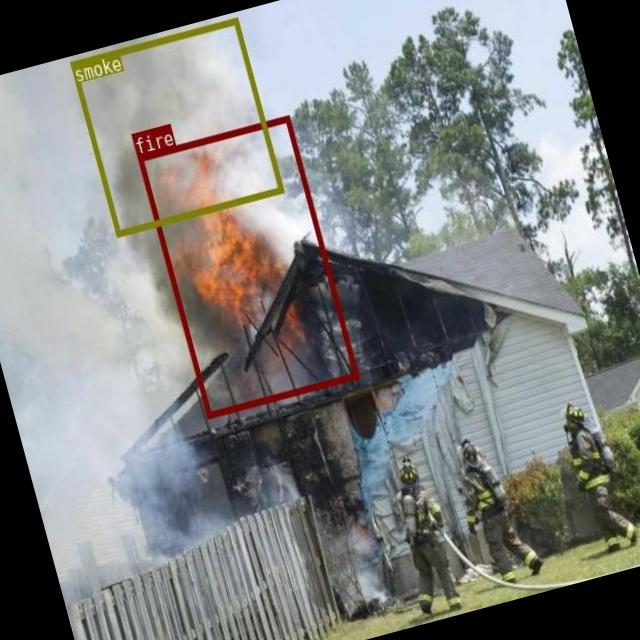fire: (137, 115, 358, 416)
smoke: (69, 16, 284, 236)
